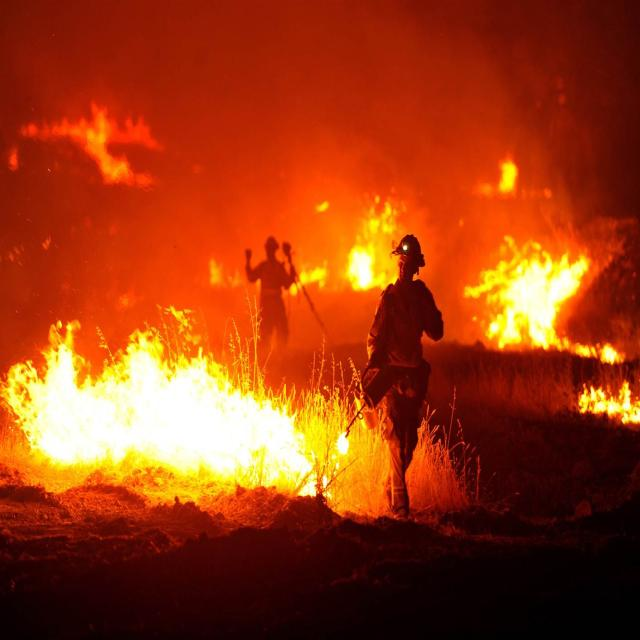Fire: (9, 321, 360, 531), (296, 185, 629, 374), (6, 87, 186, 205), (568, 346, 640, 434)
